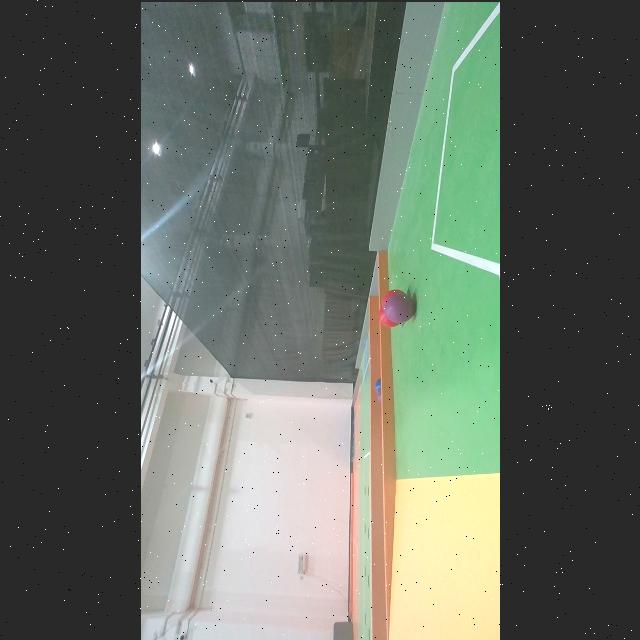P: (384, 292, 414, 322)
R: (381, 288, 405, 310)
